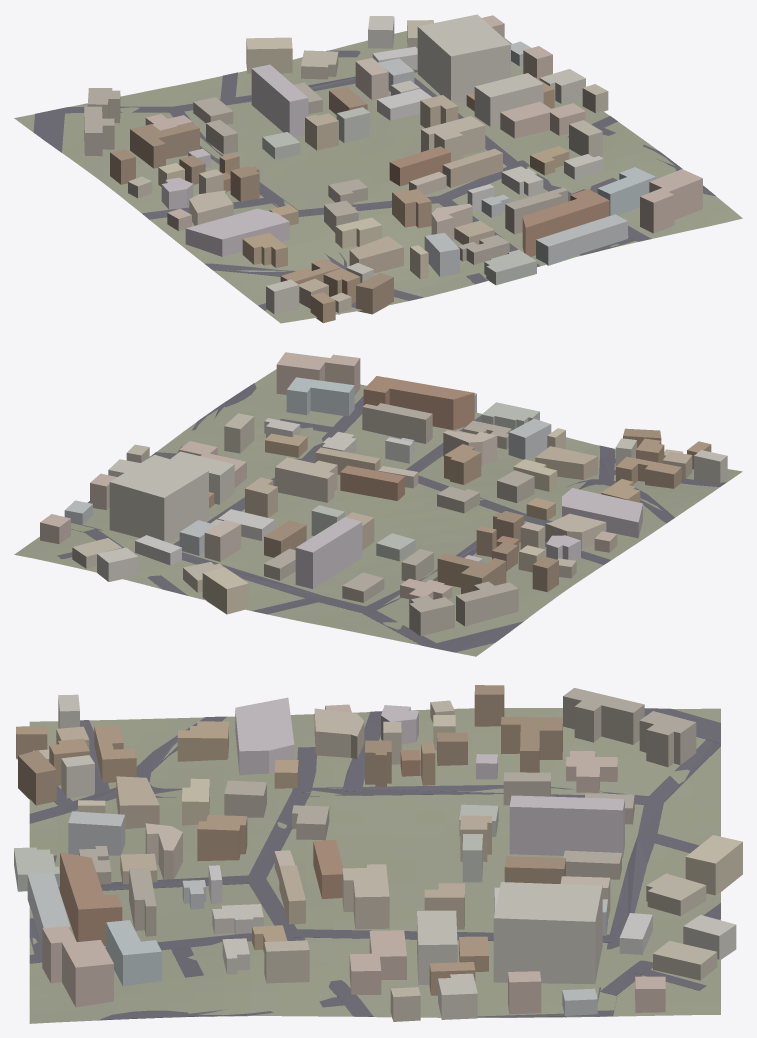
Rendered from chunk_6_1.glb.
3 renders of one model, top to bottom at view 1: azimuth 30°, elevation 25°; view 2: azimuth 150°, elevation 25°; view 3: azimuth 270°, elevation 25°, orthographic. The views are drawn at different scales.
Parts seen in each view (by area): view 1: geometry_81, geometry_49, geometry_77, geometry_65, geometry_9, geometry_76, geometry_35, geometry_43, geometry_66, geometry_63, geometry_64, geometry_53 (+57 smaller); view 2: geometry_81, geometry_49, geometry_76, geometry_9, geometry_77, geometry_65, geometry_64, geometry_53, geometry_57, geometry_68, geometry_66, geometry_31 (+56 smaller); view 3: geometry_81, geometry_49, geometry_9, geometry_65, geometry_77, geometry_76, geometry_68, geometry_83, geometry_85, geometry_63, geometry_66, geometry_64 (+71 smaller).
Boxes of the visible parts, bbox=[...] form: geometry_81: bbox=[14, 31, 742, 323]; geometry_49: bbox=[417, 14, 510, 103]; geometry_77: bbox=[185, 208, 289, 256]; geometry_65: bbox=[640, 169, 702, 233]; geometry_9: bbox=[251, 64, 308, 136]; geometry_76: bbox=[522, 189, 609, 256]; geometry_35: bbox=[536, 214, 627, 265]; geometry_43: bbox=[474, 73, 543, 126]; geometry_66: bbox=[130, 123, 199, 168]; geometry_63: bbox=[500, 101, 585, 138]; geometry_64: bbox=[421, 116, 485, 162]; geometry_53: bbox=[597, 167, 655, 215]; geometry_81: bbox=[14, 369, 742, 656]; geometry_49: bbox=[109, 454, 208, 542]; geometry_76: bbox=[363, 376, 474, 429]; geometry_9: bbox=[295, 517, 362, 588]; geometry_77: bbox=[562, 488, 642, 538]; geometry_65: bbox=[276, 352, 360, 395]; geometry_64: bbox=[275, 457, 337, 502]; geometry_53: bbox=[286, 377, 354, 416]; geometry_57: bbox=[362, 403, 432, 443]; geometry_68: bbox=[456, 581, 518, 626]; geometry_66: bbox=[437, 553, 506, 594]; geometry_31: bbox=[202, 567, 248, 614]; geometry_81: bbox=[29, 708, 720, 1023]; geometry_49: bbox=[493, 882, 602, 984]; geometry_9: bbox=[509, 795, 624, 858]; geometry_65: bbox=[42, 926, 113, 1007]; geometry_77: bbox=[235, 697, 294, 775]; geometry_76: bbox=[60, 852, 122, 945]; geometry_68: bbox=[563, 688, 644, 744]; geometry_83: bbox=[248, 791, 373, 1016]; geometry_85: bbox=[136, 716, 656, 804]; geometry_63: bbox=[349, 930, 406, 994]; geometry_66: bbox=[501, 717, 562, 772]; geometry_64: bbox=[342, 864, 389, 929].
Bounding box in the file's own units: 253 × 29.62 × 264.
